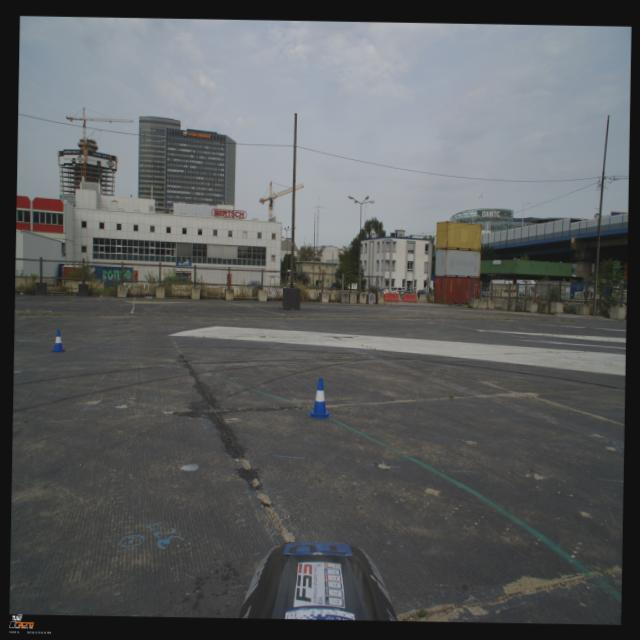blue_cone: (306, 378, 332, 418), (51, 330, 65, 352)
